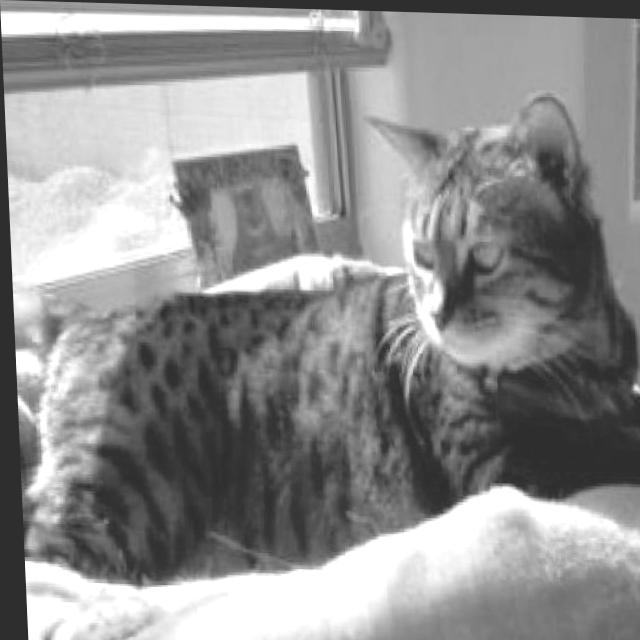Cat: (5, 77, 640, 605)
